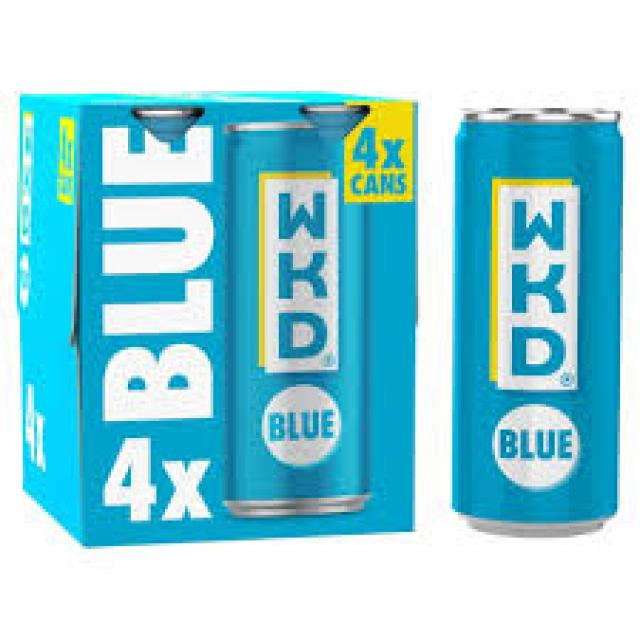Cans: (444, 94, 628, 540)
